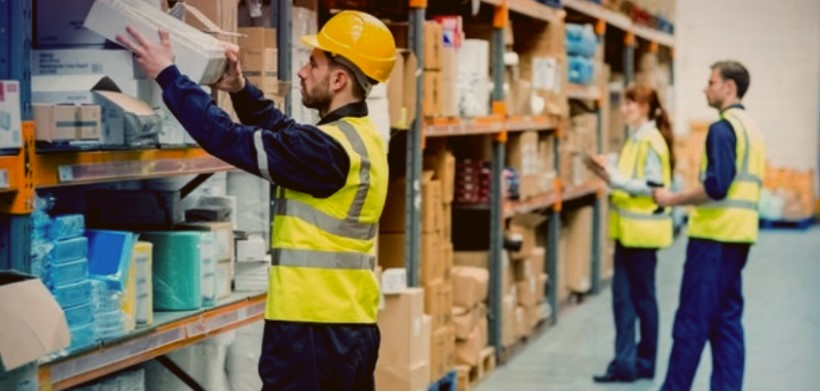worker: (264, 9, 398, 323)
